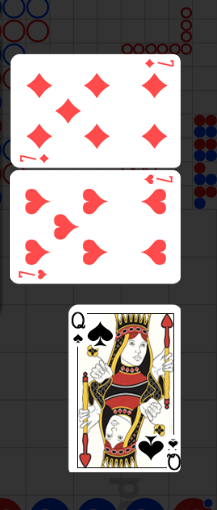7D: (19, 152, 50, 164)
7H: (17, 268, 49, 281)
9S: (166, 437, 180, 470)
